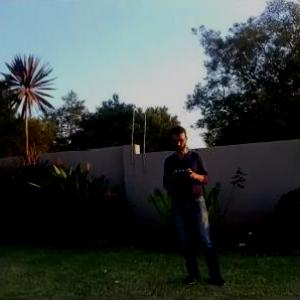follow: (161, 120, 232, 287)
